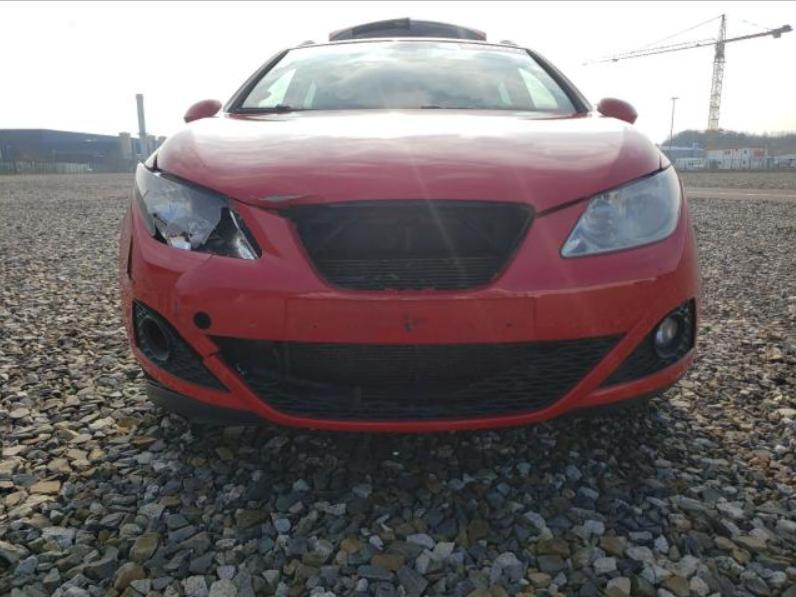Front-bumper: (119, 184, 702, 431)
Grille: (297, 198, 530, 295)
Headlight: (556, 160, 683, 258), (132, 164, 260, 259)
Hood: (154, 110, 656, 213)
Mirror: (602, 99, 642, 123), (185, 98, 222, 115)
Windshield: (238, 42, 578, 113)
